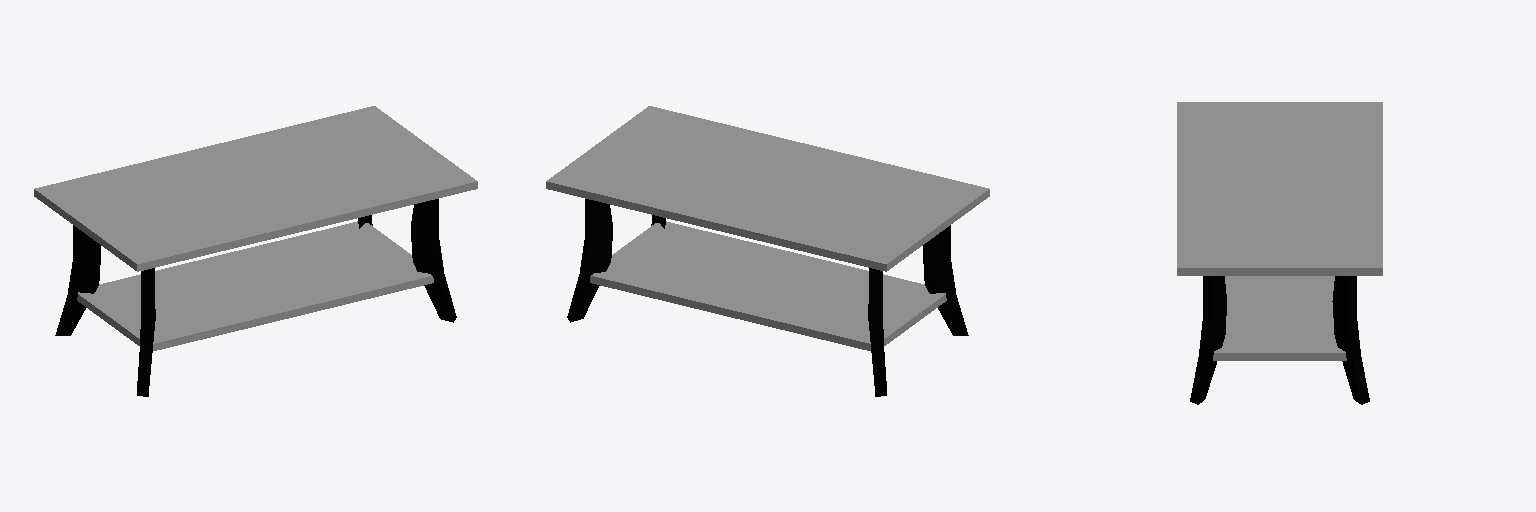
File: tableBasseBois.obj
The picture shows the model from 3 angles: view 1: azimuth 30°, elevation 25°; view 2: azimuth 150°, elevation 25°; view 3: azimuth 270°, elevation 25°; orthographic projection.
Visible parts, largest first — view 1: Etagère_du_haut, Etagère_du_bas, Pied_avant_droit, Pied_arriere_gauche, Pied_avant_gauche; view 2: Etagère_du_haut, Etagère_du_bas, Pied_arriere_droit, Pied_avant_gauche, Pied_arriere_gauche; view 3: Etagère_du_haut, Etagère_du_bas, Pied_arriere_droit, Pied_avant_droit.
Boxes of the visible parts, x1,y1,x2,y2 form: Etagère_du_haut: [34, 106, 477, 271]; Etagère_du_bas: [77, 221, 433, 350]; Pied_avant_droit: [411, 199, 456, 322]; Pied_arriere_gauche: [55, 225, 100, 335]; Pied_avant_gauche: [137, 268, 155, 396]; Etagère_du_haut: [546, 106, 989, 271]; Etagère_du_bas: [590, 221, 946, 350]; Pied_arriere_droit: [567, 199, 612, 322]; Pied_avant_gauche: [923, 225, 968, 335]; Pied_arriere_gauche: [868, 268, 886, 396]; Etagère_du_haut: [1177, 102, 1382, 275]; Etagère_du_bas: [1213, 276, 1346, 360]; Pied_arriere_droit: [1332, 276, 1369, 404]; Pied_avant_droit: [1190, 276, 1226, 404].
Bounding box in the file's own units: 95 × 37.82 × 50.